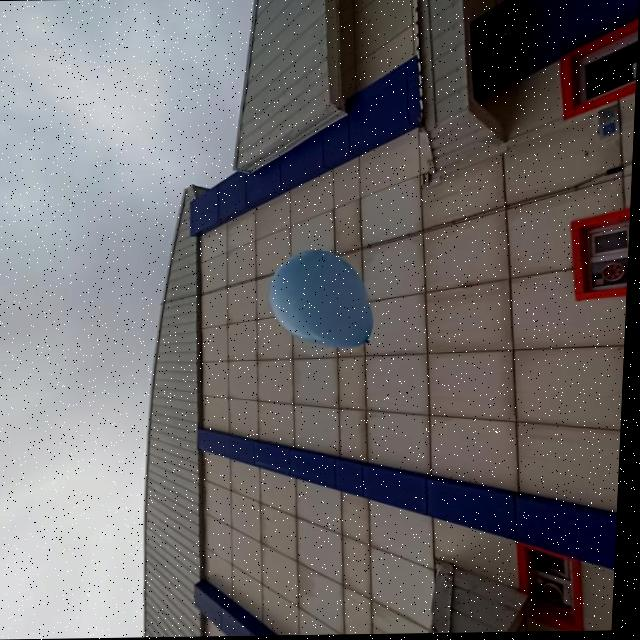balloon: (272, 251, 377, 350)
